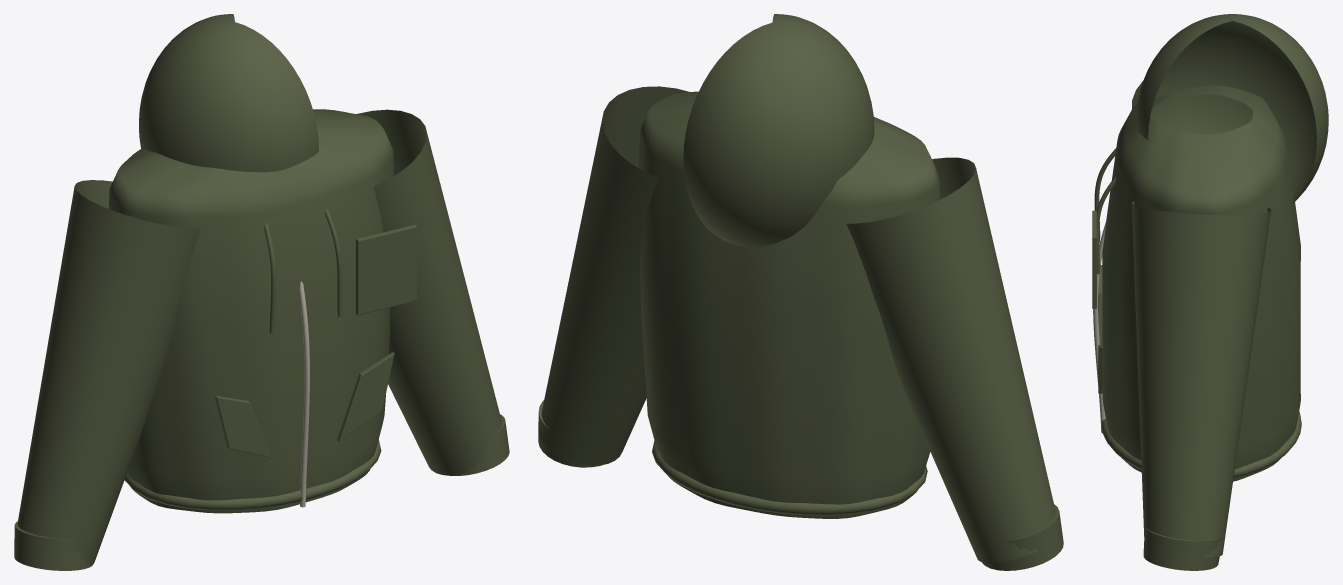
Rendered from hoodie-olive-femme.glb.
The picture shows the model from 3 angles, left to right: view 1: azimuth 30°, elevation 25°; view 2: azimuth 150°, elevation 25°; view 3: azimuth 270°, elevation 25°; orthographic projection. The views are drawn at different scales.
Parts seen in each view (by area): view 1: hoodie-olive, long-sleeve (×2); view 2: hoodie-olive, long-sleeve (×2); view 3: hoodie-olive, long-sleeve.
Part boxes in pixels (bbox=[...]): hoodie-olive: bbox=[14, 14, 509, 570]; long-sleeve (×2): bbox=[17, 109, 501, 564]; hoodie-olive: bbox=[538, 14, 1063, 570]; long-sleeve (×2): bbox=[538, 86, 1055, 563]; hoodie-olive: bbox=[1092, 14, 1328, 570]; long-sleeve: bbox=[1131, 201, 1271, 557].
Size of the model in its own units: 0.7702 by 0.7203 by 0.344.
